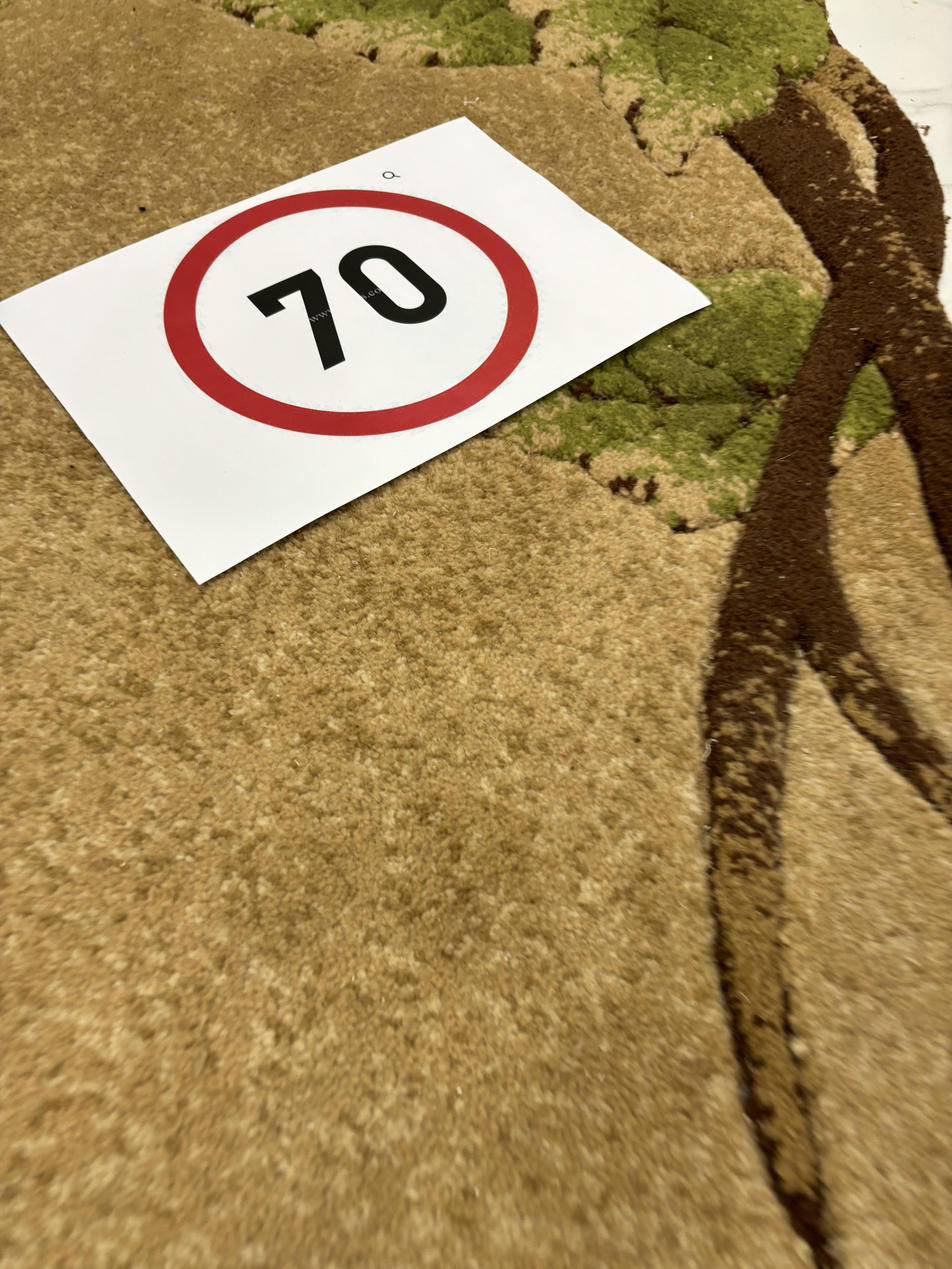70-Speed: (158, 192, 545, 436)
